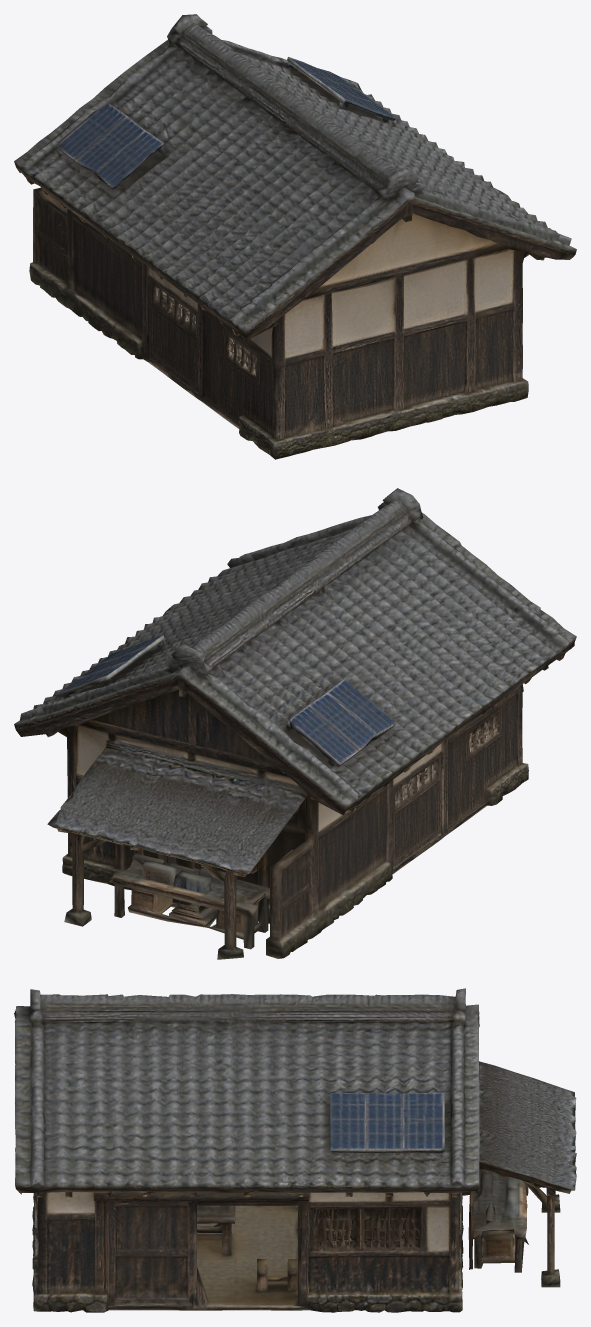
File: workshop.glb
3 views of the same model, one above another, from view 1: azimuth 30°, elevation 25°; view 2: azimuth 150°, elevation 25°; view 3: azimuth 270°, elevation 25° (orthographic).
Visible parts, largest first — view 1: tripo_node_612cc5f1-f214-4914-bb77-4427bc440a19; view 2: tripo_node_612cc5f1-f214-4914-bb77-4427bc440a19; view 3: tripo_node_612cc5f1-f214-4914-bb77-4427bc440a19.
Boxes of the visible parts, left/top/right/bottom form: tripo_node_612cc5f1-f214-4914-bb77-4427bc440a19: left=14, top=14, right=576, bottom=459; tripo_node_612cc5f1-f214-4914-bb77-4427bc440a19: left=14, top=488, right=576, bottom=959; tripo_node_612cc5f1-f214-4914-bb77-4427bc440a19: left=14, top=988, right=576, bottom=1312.
Bounding box in the file's own units: 8.99 × 6.53 × 12.79.
Materials: 1 (1 with a texture image).
